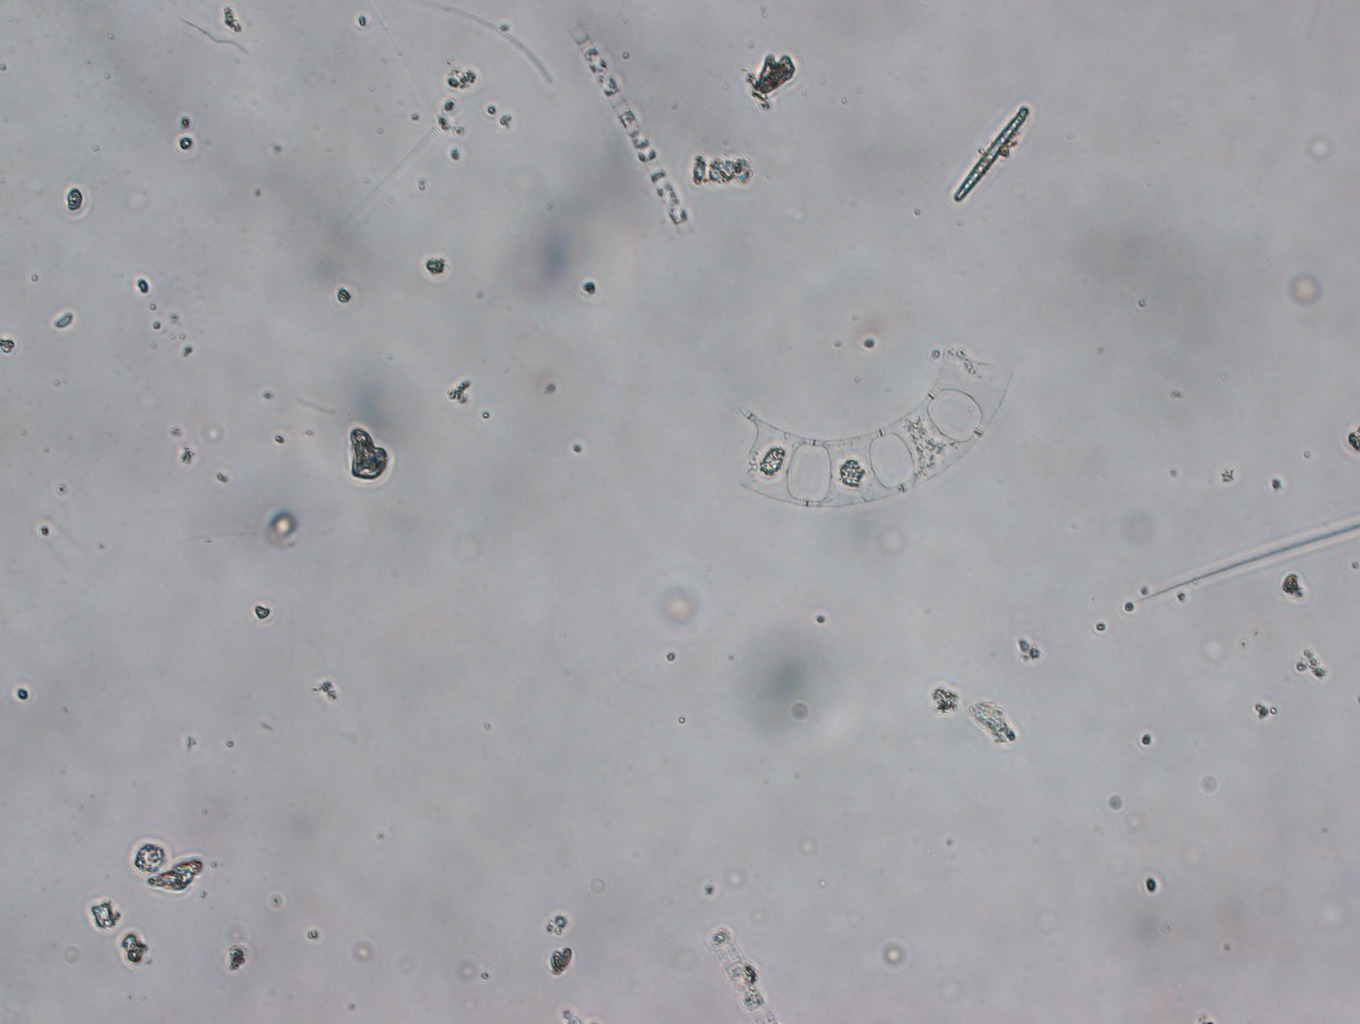eucampia: (738, 359, 1011, 509)
skeletonema: (572, 29, 693, 233)
